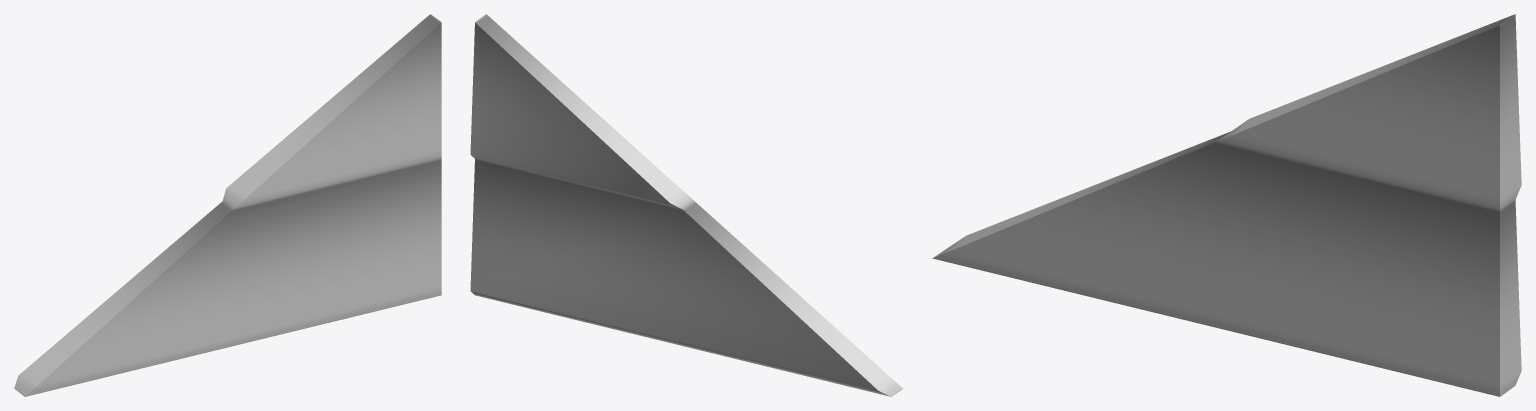
The model's file is Wall_Exterior_Angled_8.fbx.
The picture shows the model from 3 angles, left to right: view 1: azimuth 30°, elevation 25°; view 2: azimuth 150°, elevation 25°; view 3: azimuth 330°, elevation 25°; orthographic projection. The views are drawn at different scales.
Visible parts, largest first — view 1: Wall_Exterior_Angled_8; view 2: Wall_Exterior_Angled_8; view 3: Wall_Exterior_Angled_8.
Boxes of the visible parts, x1=… form: Wall_Exterior_Angled_8: x1=14, y1=14, x2=441, y2=396; Wall_Exterior_Angled_8: x1=470, y1=14, x2=903, y2=396; Wall_Exterior_Angled_8: x1=932, y1=14, x2=1521, y2=396.
Bounding box in the file's own units: 1 × 0.6255 × 0.066.
